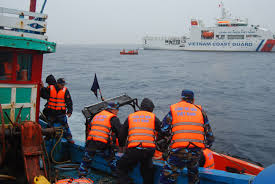tau_dansu: (146, 17, 275, 55)
